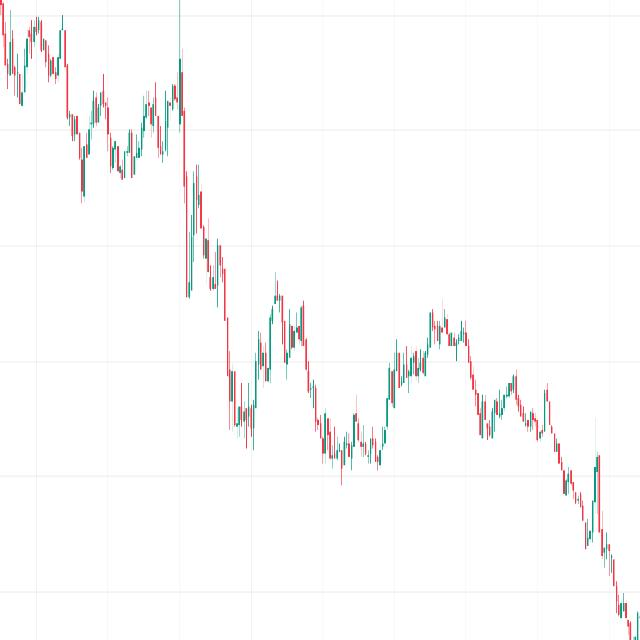Triple-Bottom: (306, 382, 392, 494)
